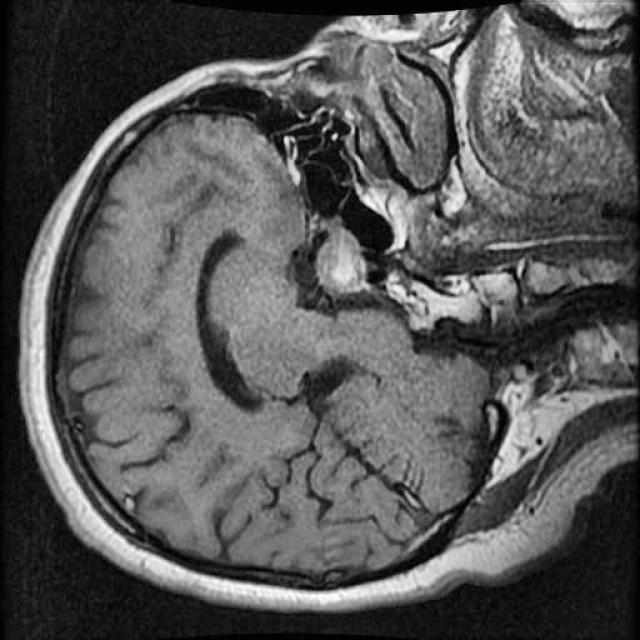Tumor: (305, 203, 378, 309)
